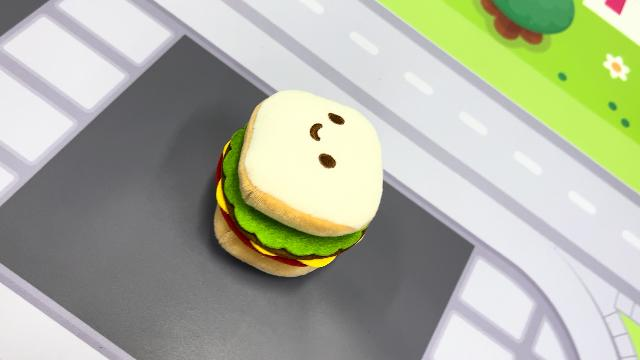sandwich: (210, 87, 386, 279)
